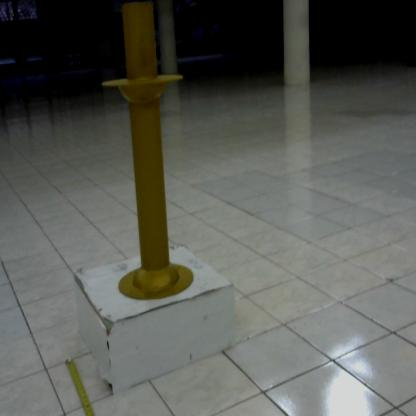pole: (99, 1, 201, 308)
